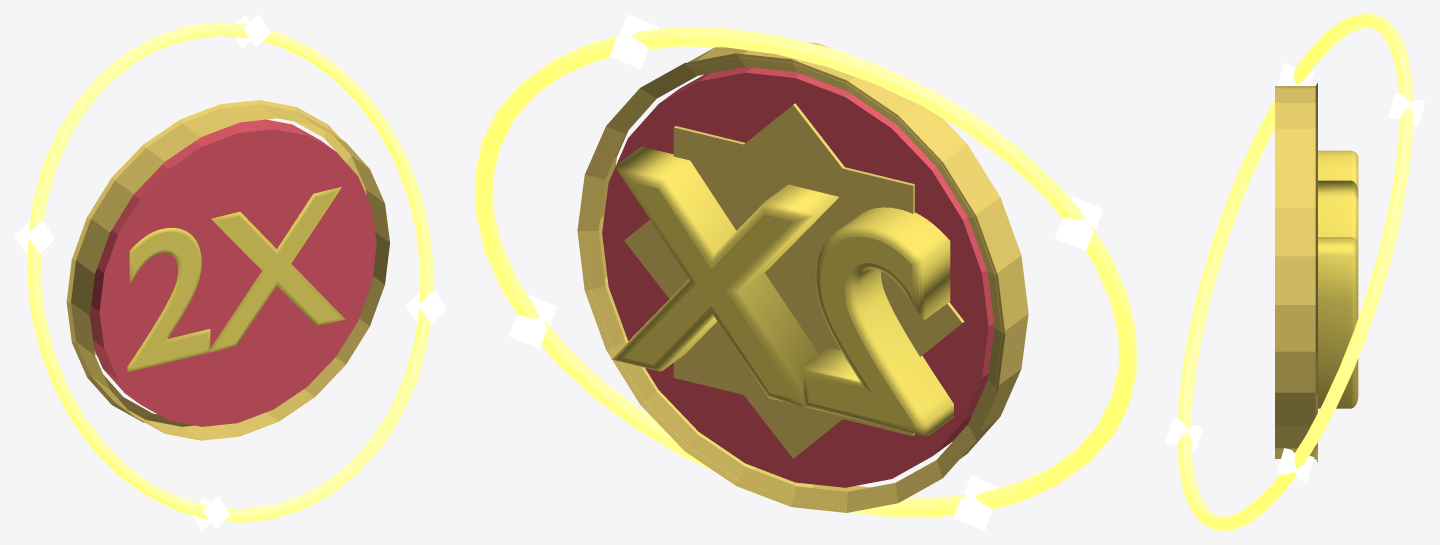
File: multiplier.glb
The picture shows the model from 3 angles, left to right: view 1: azimuth 30°, elevation 25°; view 2: azimuth 150°, elevation 25°; view 3: azimuth 270°, elevation 25°; orthographic projection. The views are drawn at different scales.
Visible parts, largest first — view 1: Badge_Plate, Celestial_Orbit_Ring, Badge_Rim, Text_2X, Badge_Lip, OrbitGem_2, OrbitGem_0, OrbitGem_3, OrbitGem_1; view 2: Text_2X, Badge_Plate, Celestial_Orbit_Ring, Badge_Lip, StarFacet_1, StarFacet_0, Badge_Rim, OrbitGem_2, OrbitGem_1, OrbitGem_0, OrbitGem_3; view 3: Celestial_Orbit_Ring, Badge_Rim, Text_2X, Badge_Lip, OrbitGem_0, OrbitGem_1, OrbitGem_3, OrbitGem_2.
Part boxes in pixels (<box>): Badge_Plate: <box>90,119,376,426</box>; Celestial_Orbit_Ring: <box>27,22,433,522</box>; Badge_Rim: <box>71,104,389,440</box>; Text_2X: <box>94,187,345,372</box>; Badge_Lip: <box>66,100,366,426</box>; OrbitGem_2: <box>14,220,54,254</box>; OrbitGem_0: <box>406,290,446,323</box>; OrbitGem_3: <box>192,496,230,530</box>; OrbitGem_1: <box>235,14,270,48</box>; Text_2X: <box>611,146,953,436</box>; Badge_Plate: <box>602,66,994,487</box>; Celestial_Orbit_Ring: <box>475,27,1136,517</box>; Badge_Lip: <box>577,53,1005,512</box>; StarFacet_1: <box>624,103,964,458</box>; StarFacet_0: <box>673,126,914,435</box>; Badge_Rim: <box>583,42,1028,506</box>; OrbitGem_2: <box>1055,196,1102,250</box>; OrbitGem_1: <box>610,14,657,68</box>; OrbitGem_0: <box>509,294,556,348</box>; OrbitGem_3: <box>954,476,999,530</box>; Celestial_Orbit_Ring: <box>1177,14,1413,530</box>; Badge_Rim: <box>1275,86,1315,458</box>; Text_2X: <box>1318,150,1358,408</box>; Badge_Lip: <box>1315,82,1317,462</box>; OrbitGem_0: <box>1276,448,1314,481</box>; OrbitGem_1: <box>1388,93,1425,126</box>; OrbitGem_3: <box>1165,418,1202,451</box>; OrbitGem_2: <box>1277,63,1314,85</box>.
Size of the model in its own units: 1.3 by 1.21 by 0.6334.
